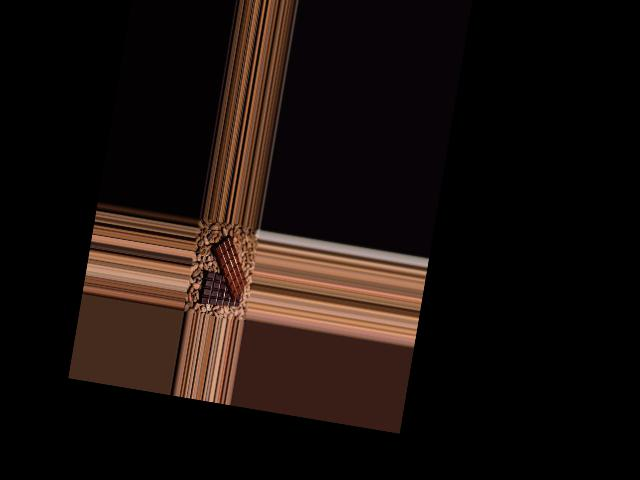chocolate: (195, 270, 246, 314)
